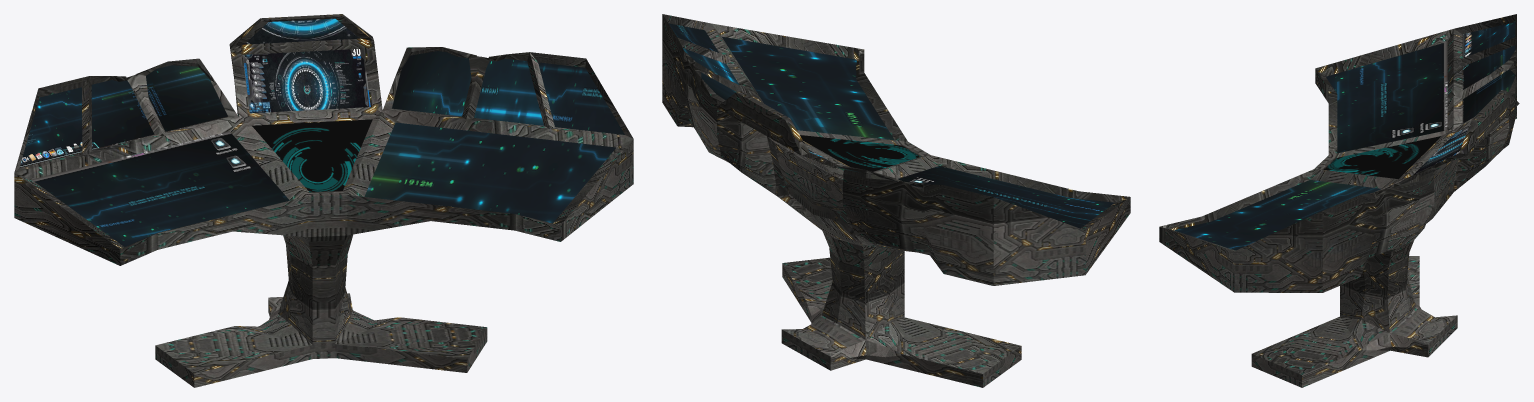
3 renders of one model, left to right at view 1: azimuth 30°, elevation 25°; view 2: azimuth 150°, elevation 25°; view 3: azimuth 270°, elevation 25°, orthographic. The views are drawn at different scales.
Visible parts, largest first — view 1: MaterialFBXASC032FBXASC0352142150880, MaterialFBXASC032FBXASC0352142171025, MaterialFBXASC032FBXASC0352142148579, MaterialFBXASC032FBXASC0352142148966; view 2: MaterialFBXASC032FBXASC0352142150880, MaterialFBXASC032FBXASC0352142171025, MaterialFBXASC032FBXASC0352142148966; view 3: MaterialFBXASC032FBXASC0352142150880, MaterialFBXASC032FBXASC0352142171025, MaterialFBXASC032FBXASC0352142148966, MaterialFBXASC032FBXASC0352142148579.
Part boxes in pixels (x1,y1,x2,y2): MaterialFBXASC032FBXASC0352142150880: (14,14,633,387); MaterialFBXASC032FBXASC0352142171025: (19,51,624,246); MaterialFBXASC032FBXASC0352142148579: (242,18,370,113); MaterialFBXASC032FBXASC0352142148966: (252,119,372,192); MaterialFBXASC032FBXASC0352142150880: (662,14,1130,387); MaterialFBXASC032FBXASC0352142171025: (668,23,1114,228); MaterialFBXASC032FBXASC0352142148966: (800,135,920,171); MaterialFBXASC032FBXASC0352142150880: (1159,14,1519,387); MaterialFBXASC032FBXASC0352142171025: (1174,22,1515,250); MaterialFBXASC032FBXASC0352142148966: (1324,136,1441,179); MaterialFBXASC032FBXASC0352142148579: (1413,126,1468,174).
Size of the model in its own units: 31.65 by 16.27 by 21.63.
Materials: 4 (4 with a texture image).
